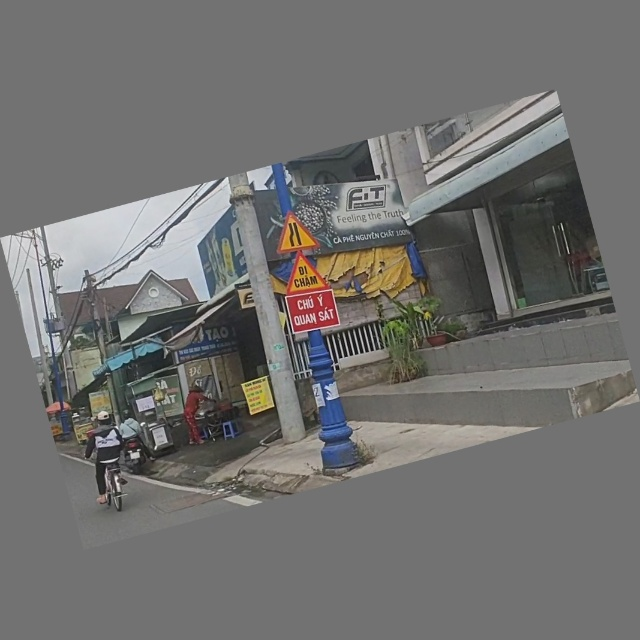W.203b: (266, 204, 322, 260)
W.245a: (277, 249, 330, 299)
